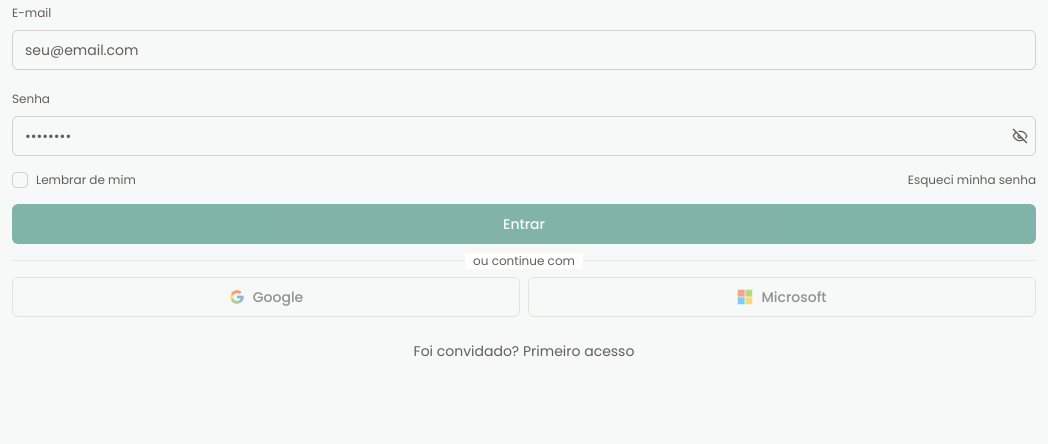
Test: LoginForm › mostra mensagem específica para credenciais inválidas (401)
Type "user@teste.dev" into the field labelled "E-mail".
click(524, 50); type("user@teste.dev")  # box [12,30,1036,70]
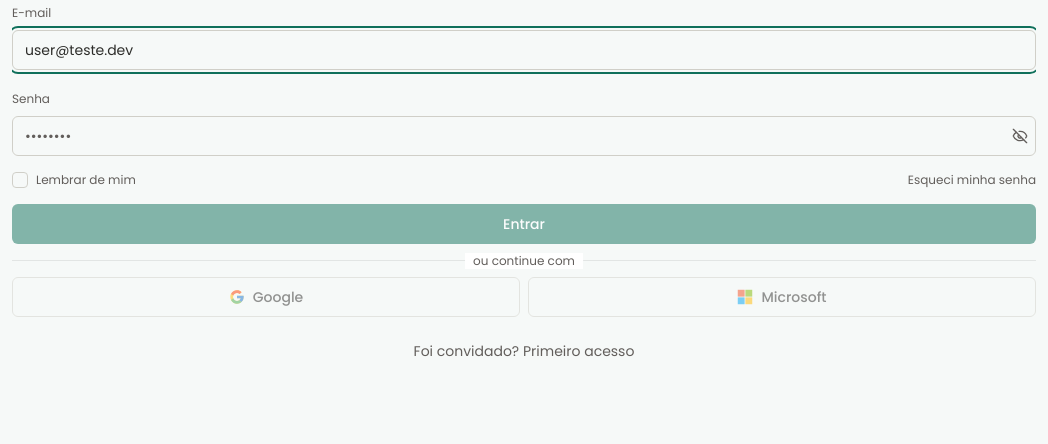
Type "senhaerrada" into the password field labelled "Senha".
click(524, 136); type("senhaerrada")  # box [12,116,1036,156]
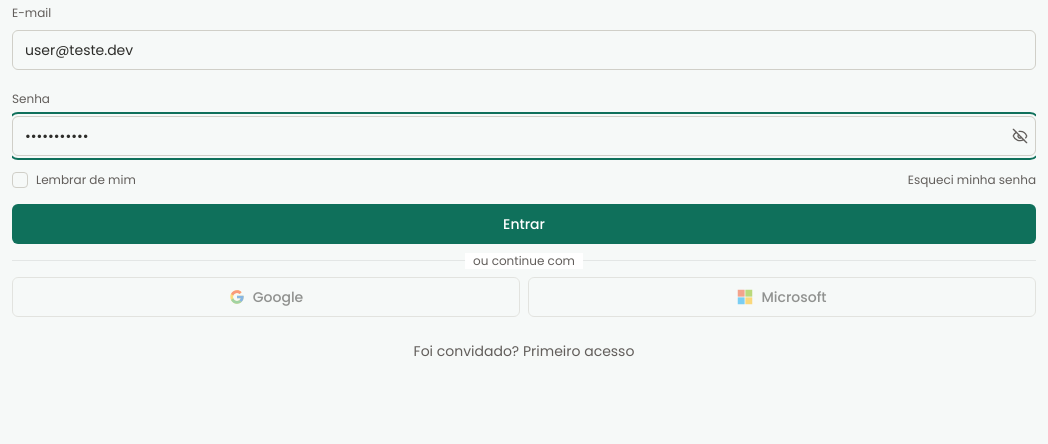
Click the button "Entrar".
click(524, 224)  # box [12,204,1036,244]
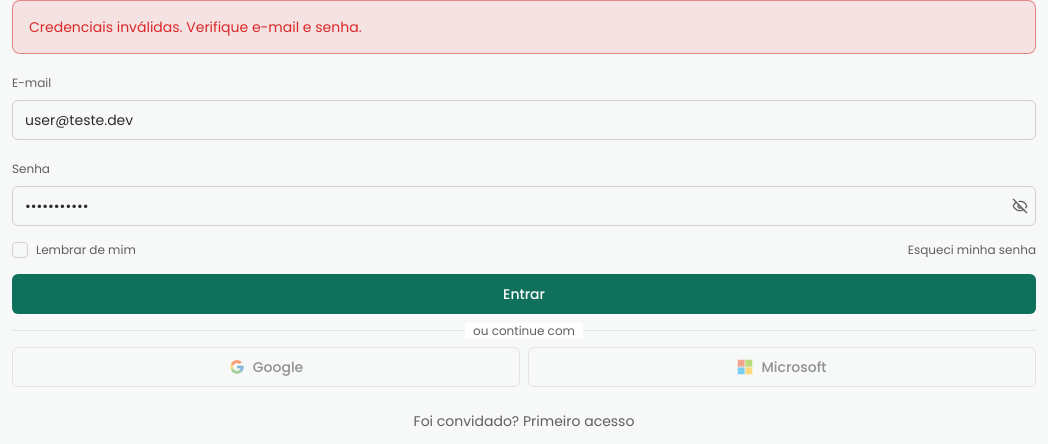
Expected: the text "Credenciais inválidas. Verifique e-mail e senha." is shown, [29,17,362,37]
